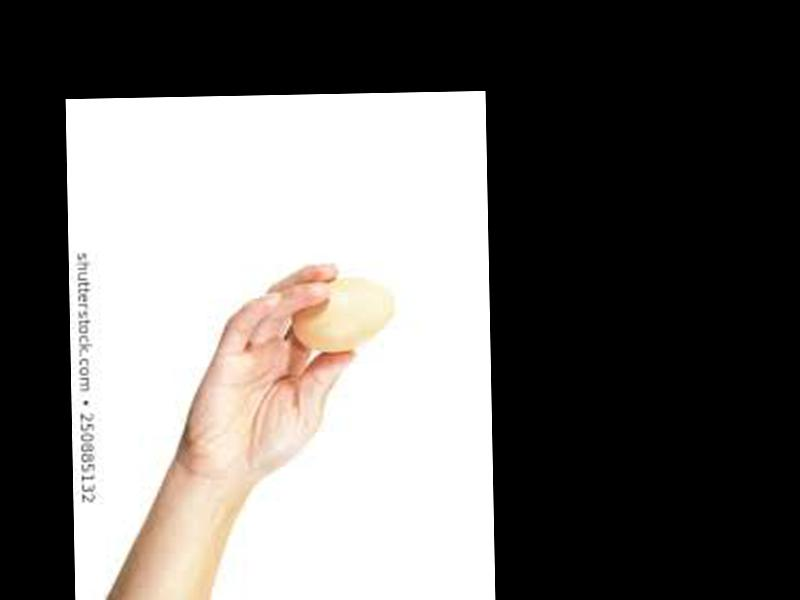Eggs: (287, 276, 397, 352)
